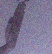hand: (4, 1, 26, 52)
